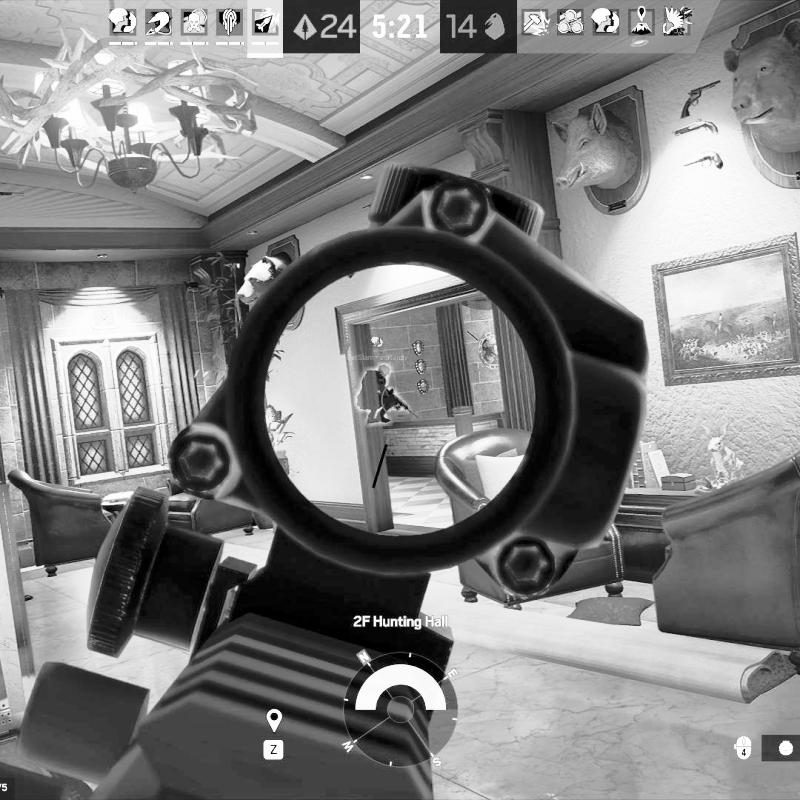Character: (356, 362, 413, 425)
Friend_label: (345, 337, 409, 362)
Head: (376, 363, 390, 377)
